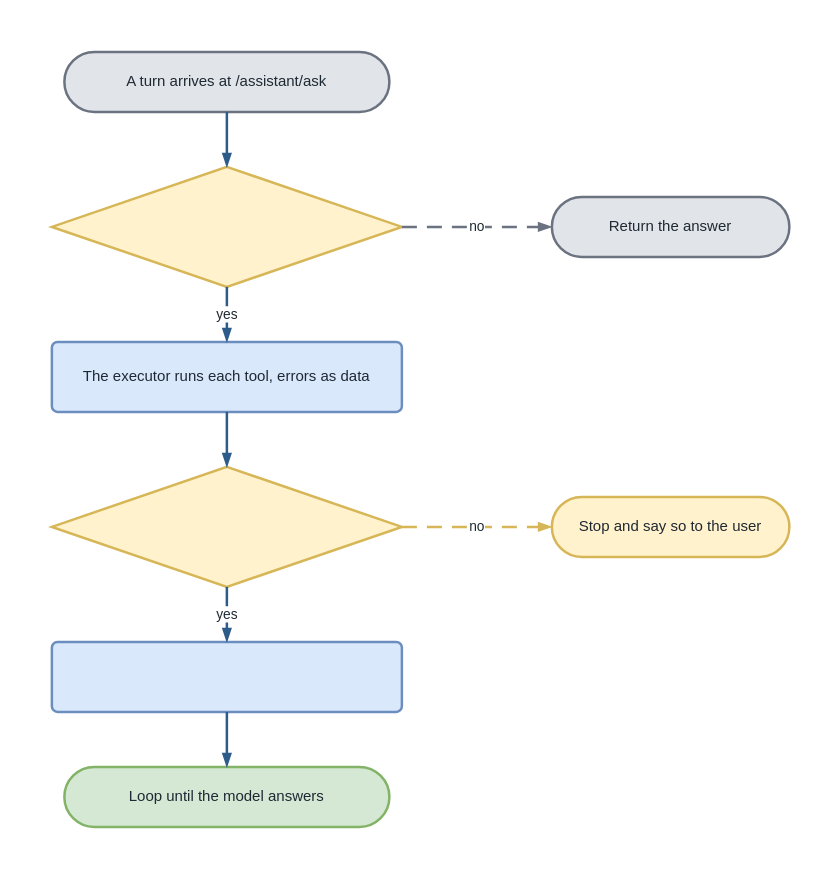
Image size: 840x878. Some labels were removed from this diagram. Here are the shapes that lost their labels. From the top down, the box of each, then its label:
(50, 165, 402, 288): Does the response ask for a tool?
(50, 465, 402, 588): Still under the round cap?
(50, 640, 402, 712): Send outputs back with previousResponseId
